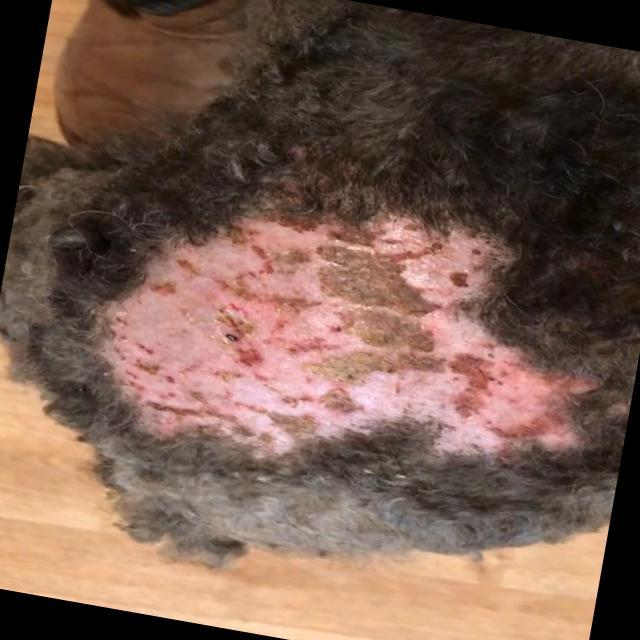allergic dermatitis: (79, 209, 590, 472)
